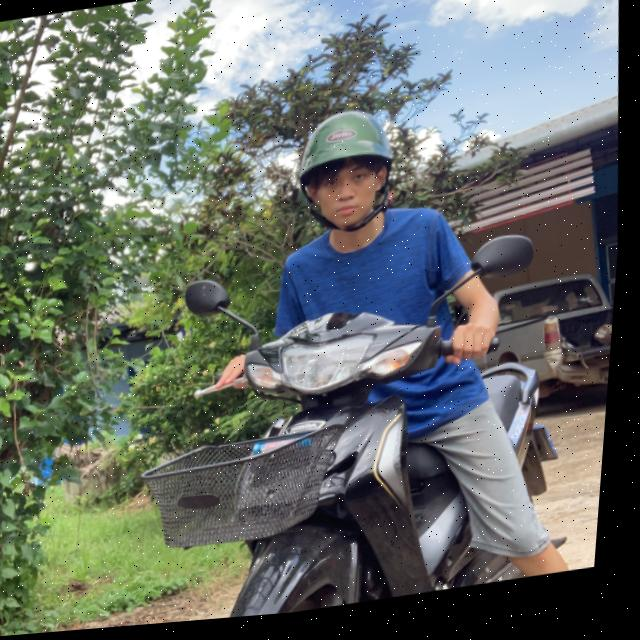helmet: (290, 106, 410, 249)
